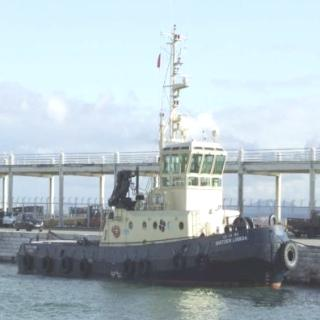Tug Boat: (14, 134, 313, 277)
